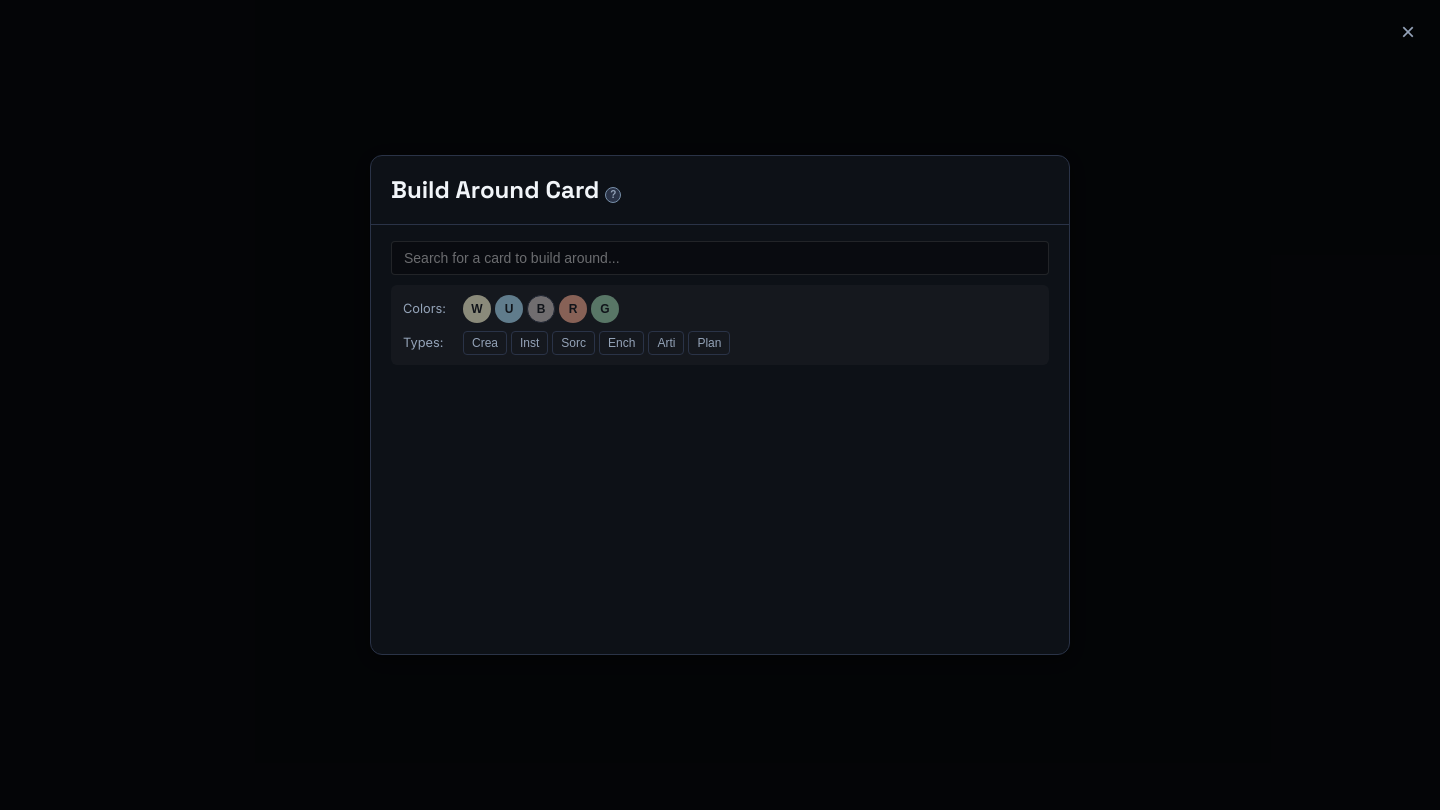
Test: BuildAroundSeedModal › Search Filters › should show no results when filter excludes all cards
The image size is (1440, 810).
// Search for cards
Type "Card" into the field with placeholder "Search for a card to build around..." at (720, 258), box x1=391 y1=241 x2=1049 y2=275
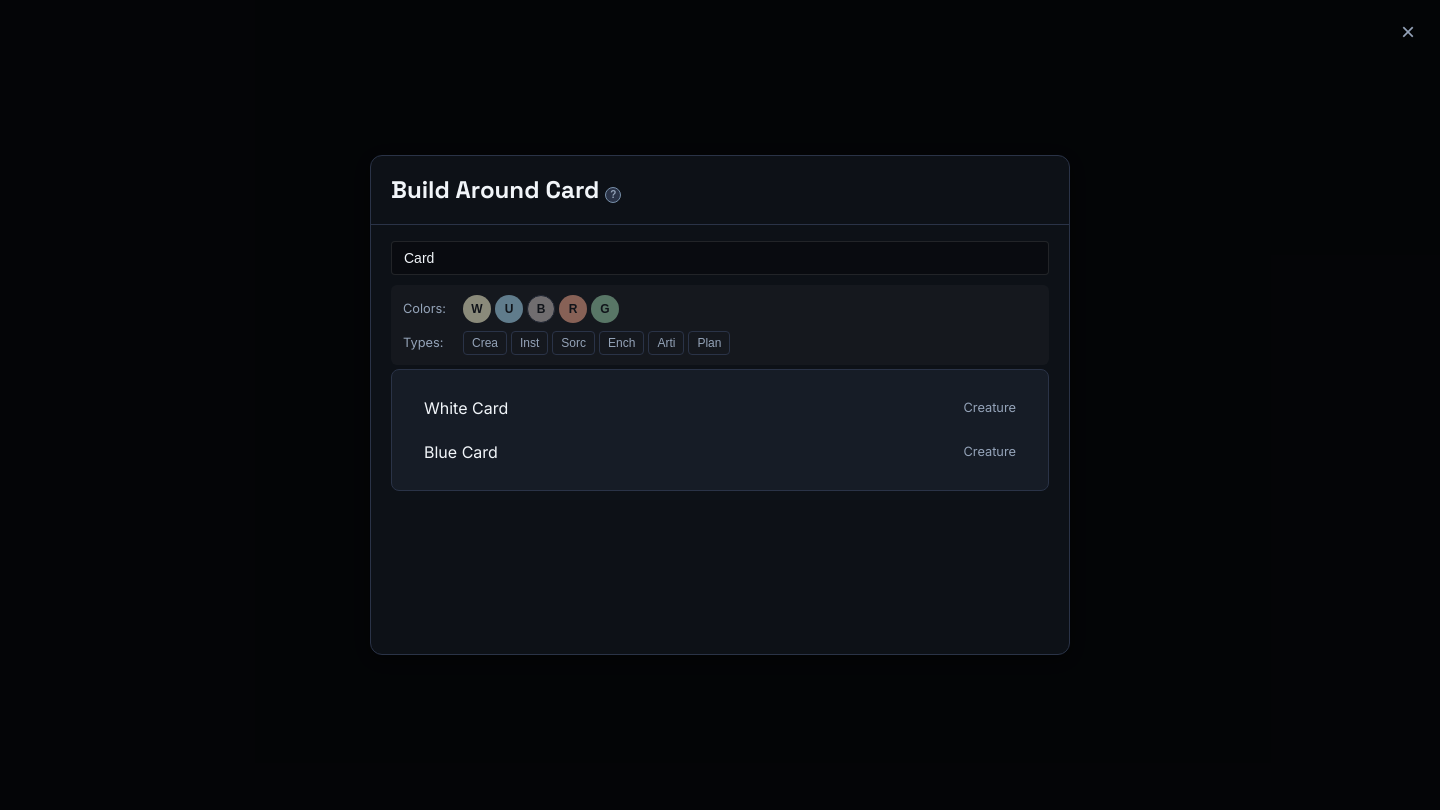
Result: the text "White Card" is shown at x1=424 y1=398 x2=508 y2=418
// Click Red color filter (no red cards in results)
Click the button titled "Red" at (573, 309), box x1=559 y1=295 x2=587 y2=323
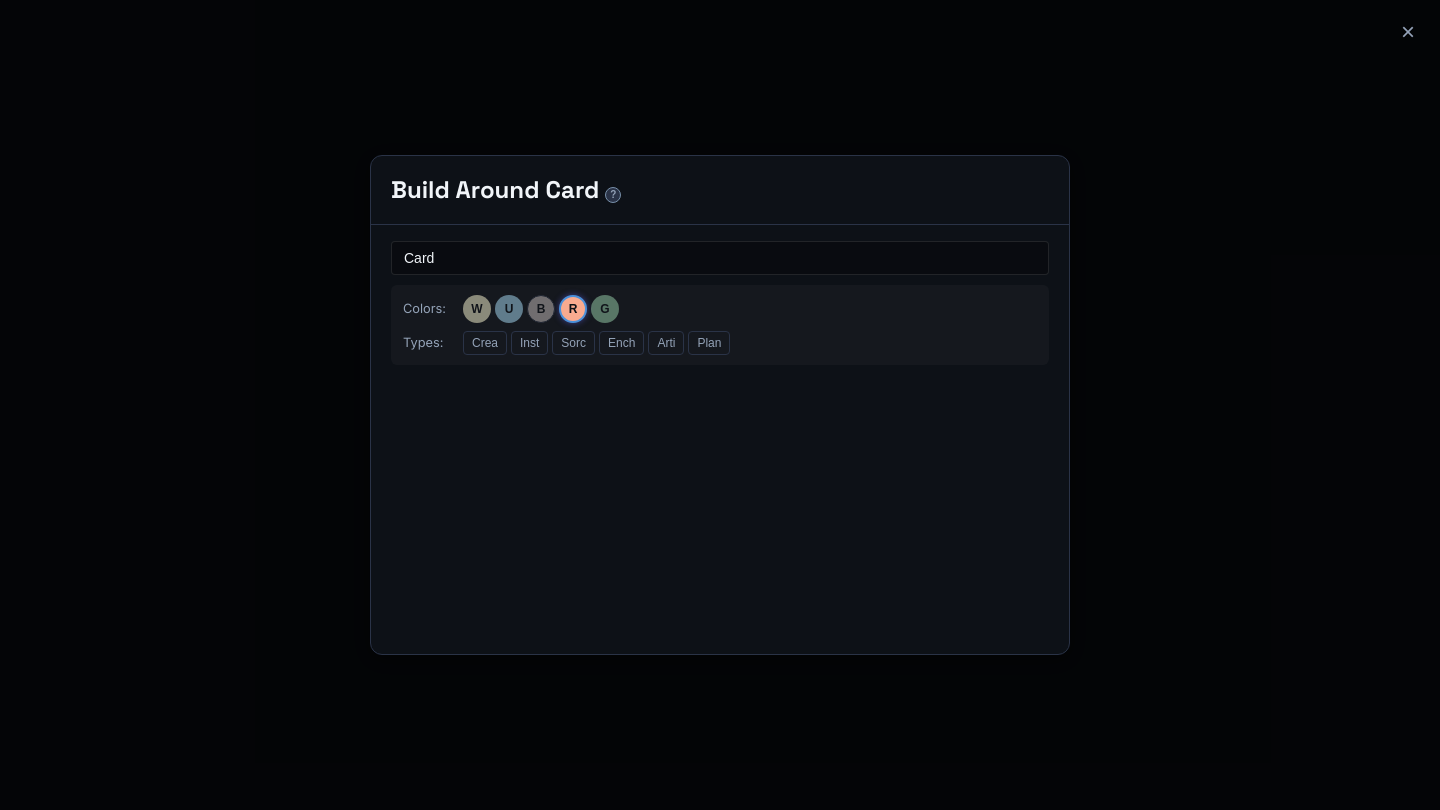
Result: the text "White Card" is gone
Result: the text "Blue Card" is gone
